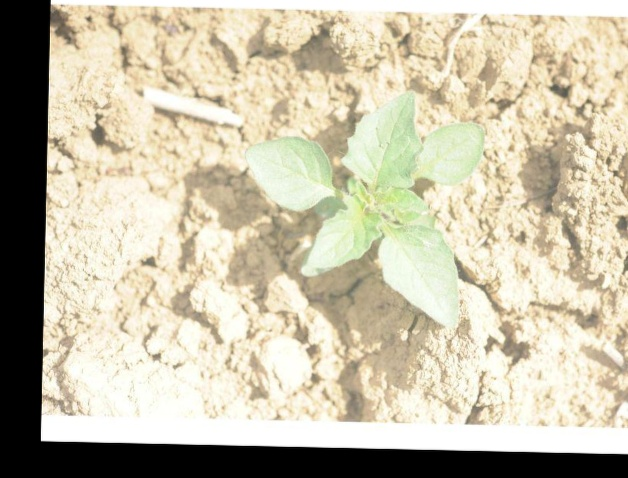nightshade: (242, 87, 481, 328)
